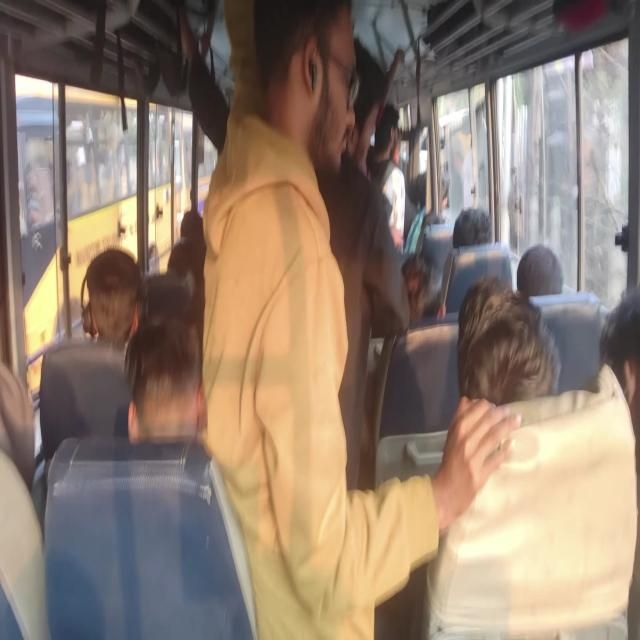person: (248, 0, 356, 206), (132, 312, 216, 443), (0, 360, 55, 542), (460, 295, 530, 413), (342, 12, 389, 182), (78, 259, 145, 356), (592, 310, 640, 438), (504, 242, 572, 316), (359, 57, 408, 157), (453, 203, 507, 260), (167, 236, 211, 294), (397, 266, 441, 321), (426, 159, 456, 214), (180, 200, 207, 240)
